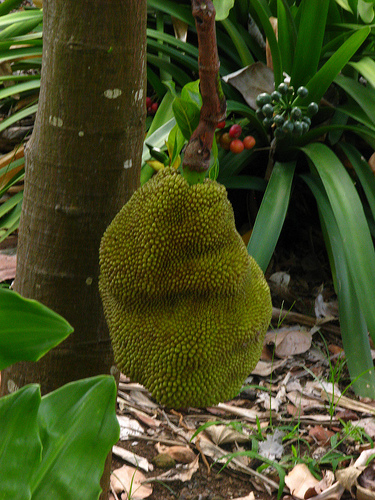jackfruit: (98, 172, 272, 408)
